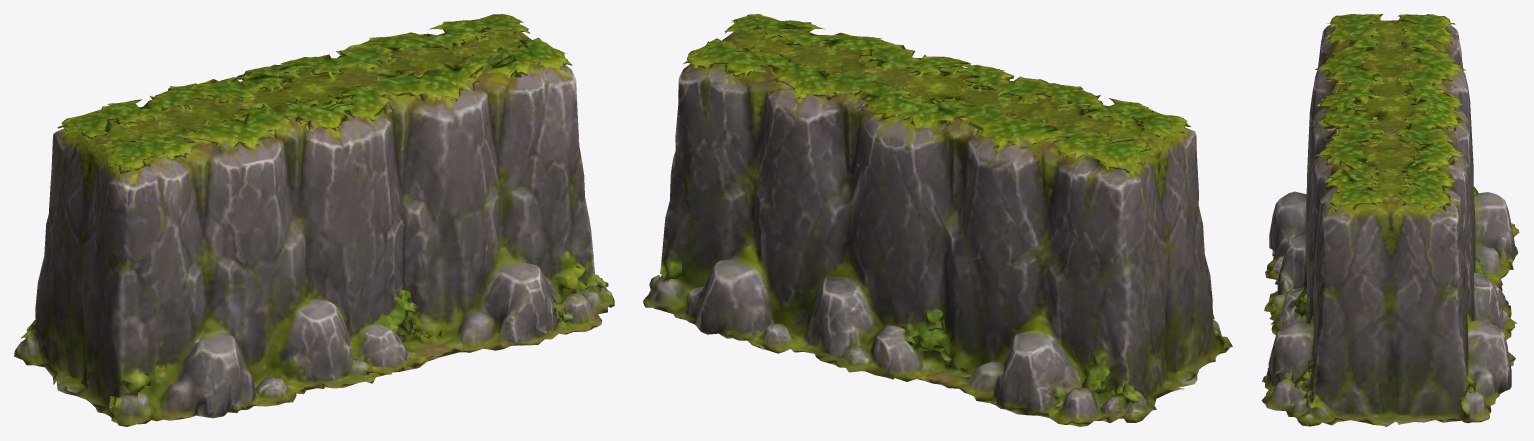
File: plateau_a.glb
3 renders of one model, left to right at view 1: azimuth 30°, elevation 25°; view 2: azimuth 150°, elevation 25°; view 3: azimuth 270°, elevation 25°, orthographic. The views are drawn at different scales.
Bounding box in the file's own units: 1.89 × 0.8672 × 0.9312.
1 material, 1 textured.
